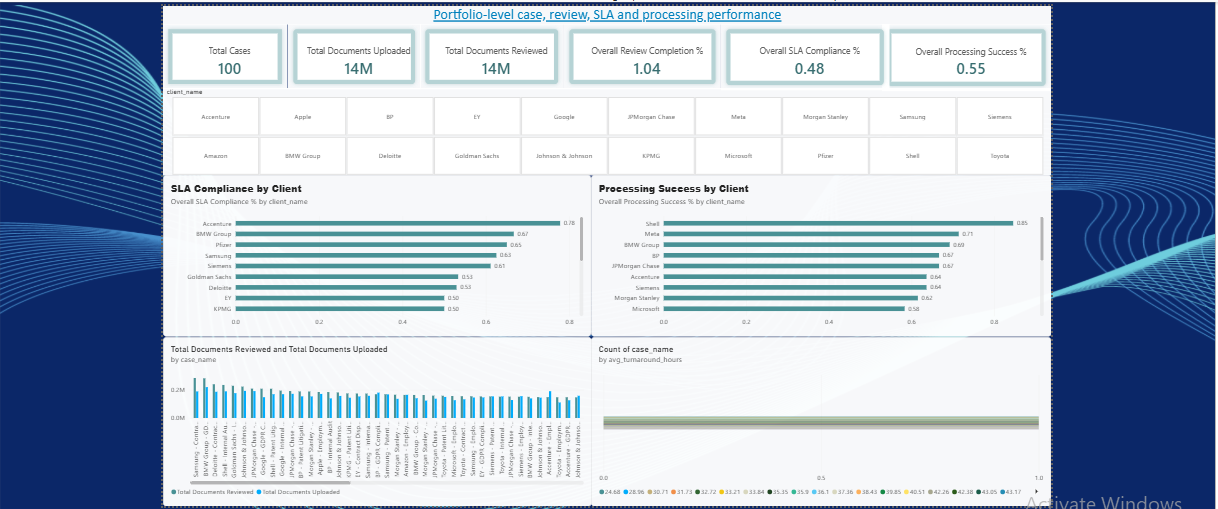

The dashboard page shown, as its layout file describes it:
{"tool":"powerbi","page":{"name":"Executive Overview","canvas":[1920,1080],"ordinal":0},"visuals":[{"type":"cardVisual","fields":{"Data":["Case Summary.Total Cases"]},"box":[0,39.7,268.9,141.1],"z":0},{"type":"cardVisual","fields":{"Data":["Case Summary.Total Documents Reviewed"]},"box":[555.5,39.7,310.8,141.1],"z":1000},{"type":"cardVisual","fields":{"Data":["Case Summary.Total Documents Uploaded"]},"box":[268.9,39.7,286.6,141.1],"z":2000},{"type":"cardVisual","fields":{"Data":["Processing Performance.Overall Processing Success %"]},"box":[1554.1,39.7,365.9,145.5],"z":3000},{"type":"cardVisual","fields":{"Data":["SLA Performance.Overall SLA Compliance %"]},"box":[1205.8,39.7,363.7,143.3],"z":4000},{"type":"cardVisual","fields":{"Data":["Case Summary.Overall Review Completion %"]},"box":[866.3,39.7,339.5,141.1],"z":5000},{"type":"clusteredBarChart","title":"SLA Compliance by Client","fields":{"Category":["SLA Performance.client_name"],"Y":["SLA Performance.Overall SLA Compliance %"]},"box":[0,365.7,924.8,348.7],"z":6000},{"type":"clusteredBarChart","title":"Processing Success by Client","fields":{"Category":["Processing Performance.client_name"],"Y":["Processing Performance.Overall Processing Success %"]},"box":[924.8,365.7,995,348.7],"z":7000},{"type":"slicer","fields":{"Values":["Case Summary.client_name"]},"box":[0,176.5,1919.8,189.2],"z":8000},{"type":"clusteredColumnChart","fields":{"Category":["Case Summary.case_name"],"Y":["Case Summary.Total Documents Reviewed","Case Summary.Total Documents Uploaded"]},"box":[0,714.2,925.8,365.9],"z":9000},{"type":"clusteredBarChart","fields":{"Series":["SLA Performance.avg_turnaround_hours"],"Y":["CountNonNull(SLA Performance.case_name)"]},"box":[924.8,714.3,994.2,365.9],"z":10000},{"type":"textbox","title":"Portfolio-level case, review, SLA and processing performance","box":[0,0,1920,39.7],"z":10001}]}

Visuals, with their boxes on the page's 1920x1080 design canvas (x1, y1, x2, y2). These are canvas units, not pixel positions in the 1218x509 screenshot, which may show the page scaled, cropped or inside an application window:
cardVisual - Case Summary.Total Cases: bbox=[0, 40, 269, 181]
cardVisual - Case Summary.Total Documents Reviewed: bbox=[556, 40, 866, 181]
cardVisual - Case Summary.Total Documents Uploaded: bbox=[269, 40, 556, 181]
cardVisual - Processing Performance.Overall Processing Success %: bbox=[1554, 40, 1920, 185]
cardVisual - SLA Performance.Overall SLA Compliance %: bbox=[1206, 40, 1570, 183]
cardVisual - Case Summary.Overall Review Completion %: bbox=[866, 40, 1206, 181]
"SLA Compliance by Client" clusteredBarChart: bbox=[0, 366, 925, 714]
"Processing Success by Client" clusteredBarChart: bbox=[925, 366, 1920, 714]
slicer - Case Summary.client_name: bbox=[0, 176, 1920, 366]
clusteredColumnChart - Case Summary.case_name x Case Summary.Total Documents Reviewed: bbox=[0, 714, 926, 1080]
clusteredBarChart - SLA Performance.avg_turnaround_hours x CountNonNull(SLA Performance.case_name): bbox=[925, 714, 1919, 1080]
"Portfolio-level case, review, SLA and processing performance" textbox: bbox=[0, 0, 1920, 40]
